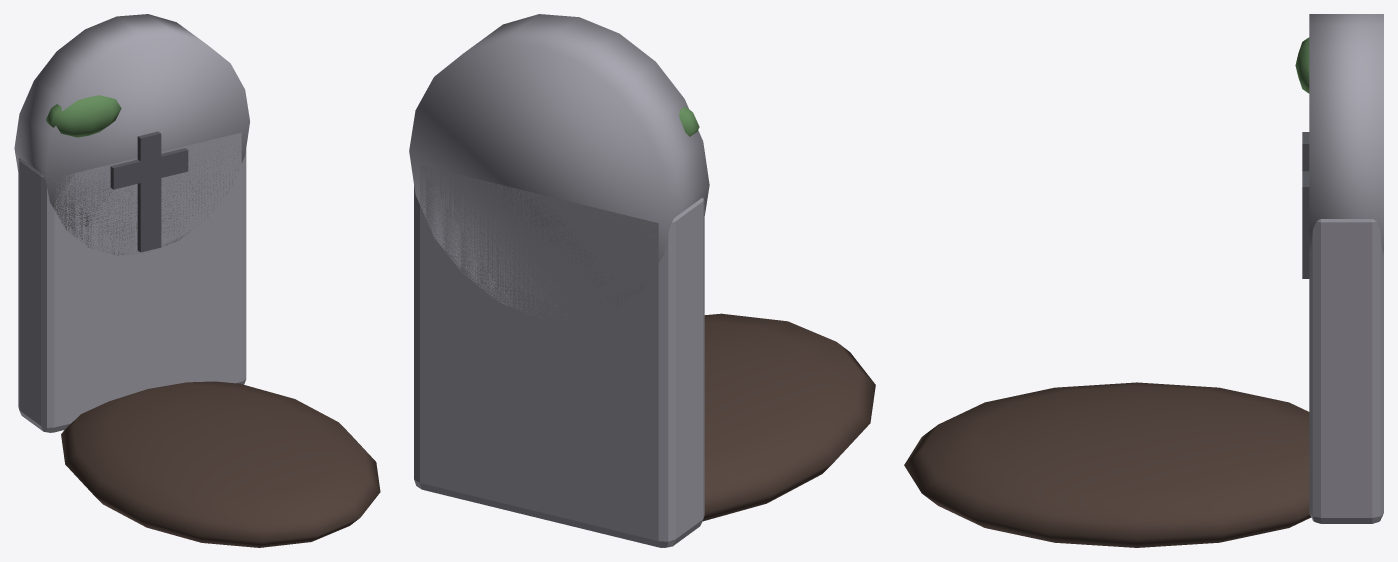
The model's file is gravestone.glb.
3 views of the same model, side by side, from view 1: azimuth 30°, elevation 25°; view 2: azimuth 150°, elevation 25°; view 3: azimuth 270°, elevation 25° (orthographic). The views are drawn at different scales.
Visible parts, largest first — view 1: Cube, Sphere.001, Cylinder, Cube.001, Sphere, Cube.002; view 2: Cube, Cylinder, Sphere.001; view 3: Sphere.001, Cube, Cylinder, Cube.001, Sphere.
Boxes of the visible parts, <box> form: Cube: <box>18,132,246,432</box>; Sphere.001: <box>61,381,380,547</box>; Cylinder: <box>14,14,249,255</box>; Cube.001: <box>137,131,161,252</box>; Sphere: <box>46,95,121,137</box>; Cube.002: <box>110,148,188,189</box>; Cube: <box>414,165,704,547</box>; Cylinder: <box>409,14,709,320</box>; Sphere.001: <box>703,313,875,521</box>; Sphere.001: <box>904,382,1311,547</box>; Cube: <box>1309,219,1383,523</box>; Cylinder: <box>1309,14,1383,253</box>; Cube.001: <box>1302,132,1309,278</box>; Sphere: <box>1295,37,1309,93</box>.
Bounding box in the file's own units: 1.5 × 2.26 × 2.06.
